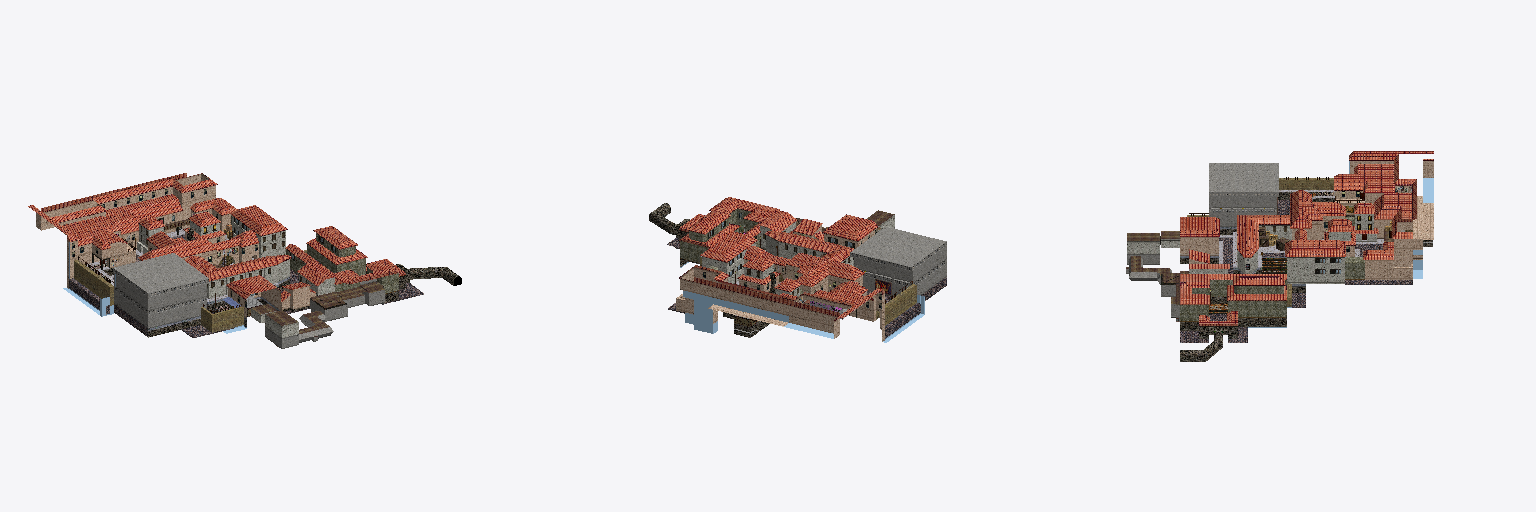
3 views of the same model, side by side, from view 1: azimuth 30°, elevation 25°; view 2: azimuth 150°, elevation 25°; view 3: azimuth 270°, elevation 25° (orthographic).
Parts seen in each view (by area): view 1: italy; view 2: italy; view 3: italy.
Boxes of the visible parts, x1,y1,x2,y2 form: italy: [28, 173, 461, 348]; italy: [649, 197, 946, 342]; italy: [1126, 151, 1433, 361].
Bounding box in the file's own units: 118 × 22.2 × 101.
Materials: 70 (70 with a texture image).